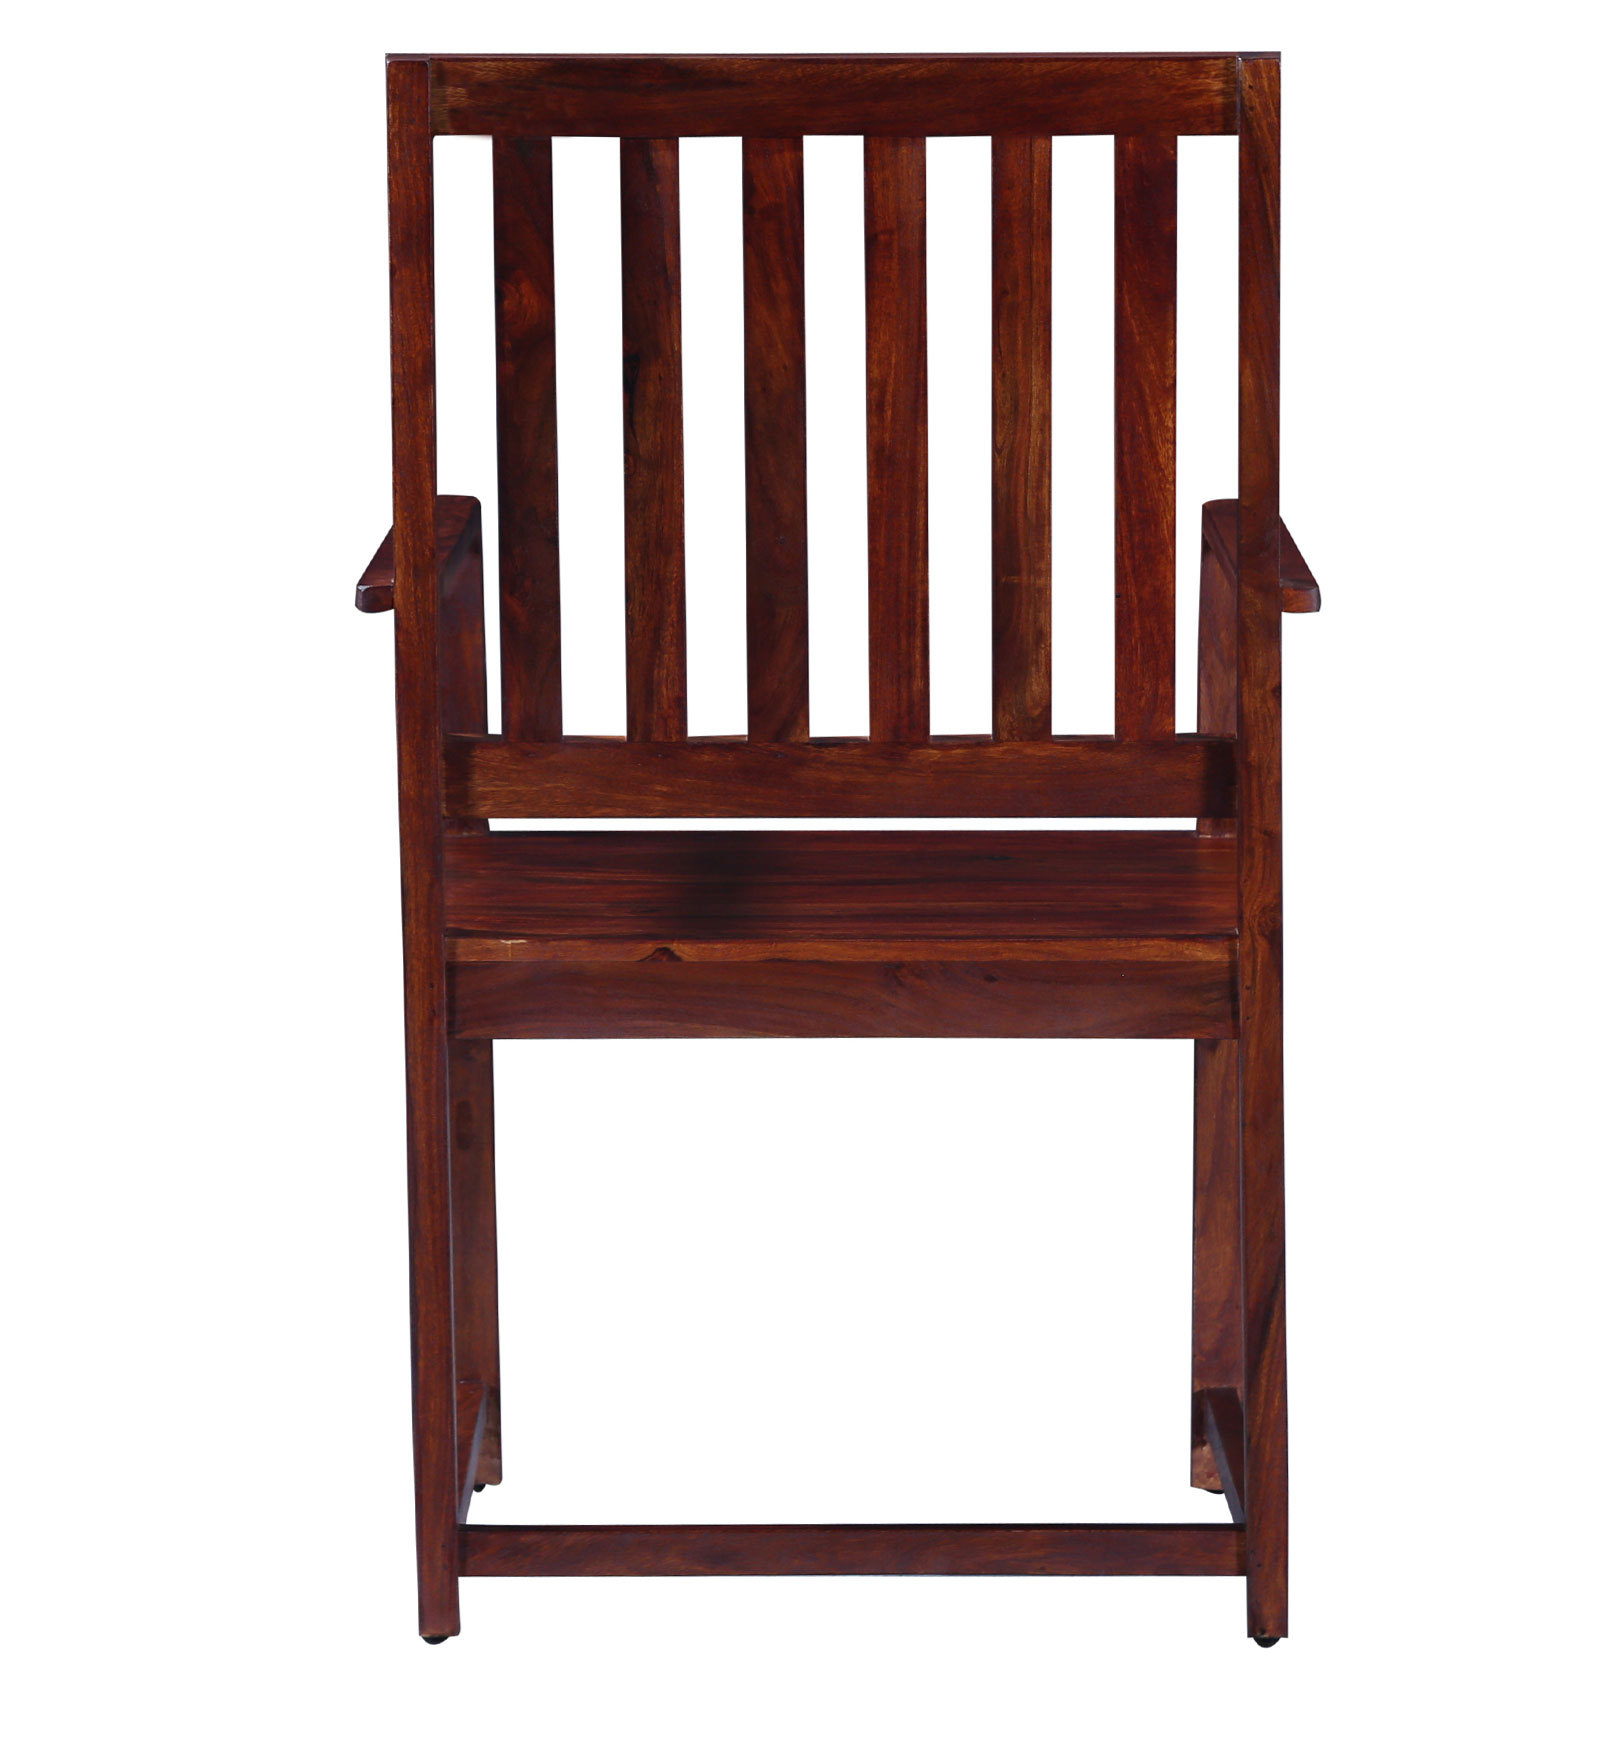Abbey Arm Chair in Honey Oak Finish by Woodsworth: (330, 35, 1333, 1666)
